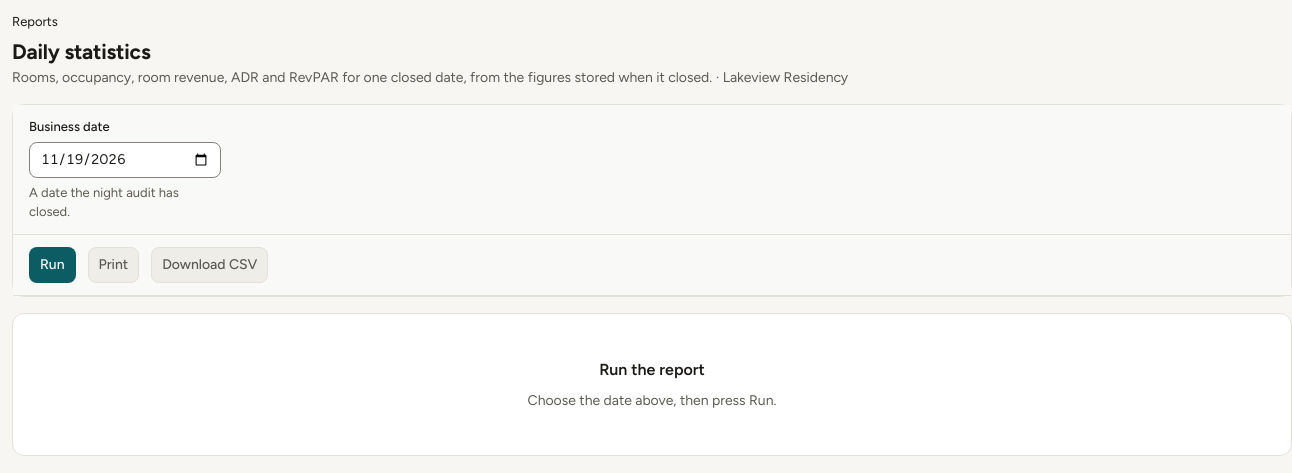
ReportRunnerScreen: Part C night audit and housekeeping › a date with no completed audit says so, as its own state
Type "2026-11-18" into the date field labelled "Business date" at (125, 160), box [29,142,221,178]
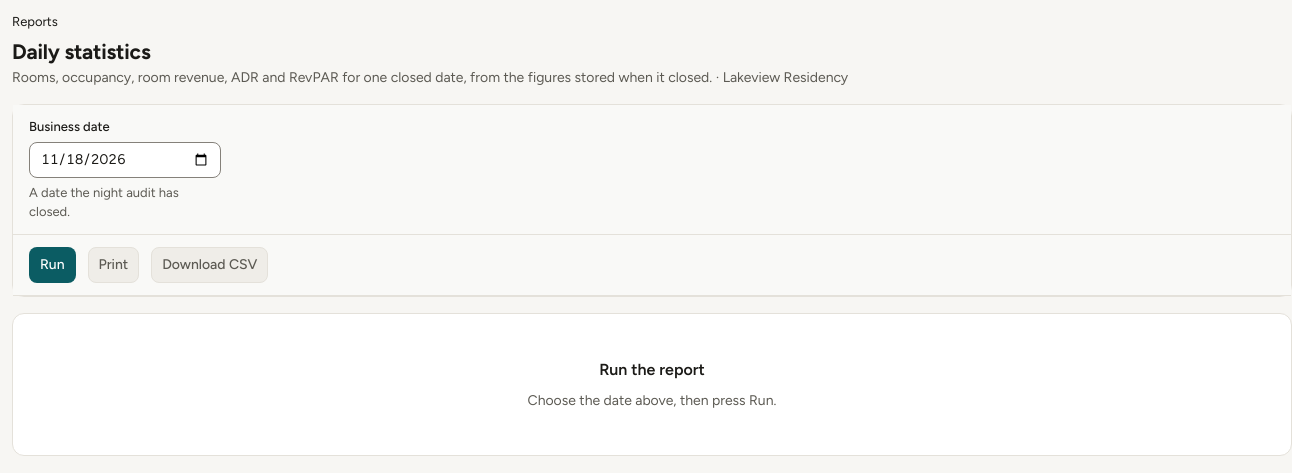
Click the button with test id "report-run" at (52, 265), box [29,247,76,283]
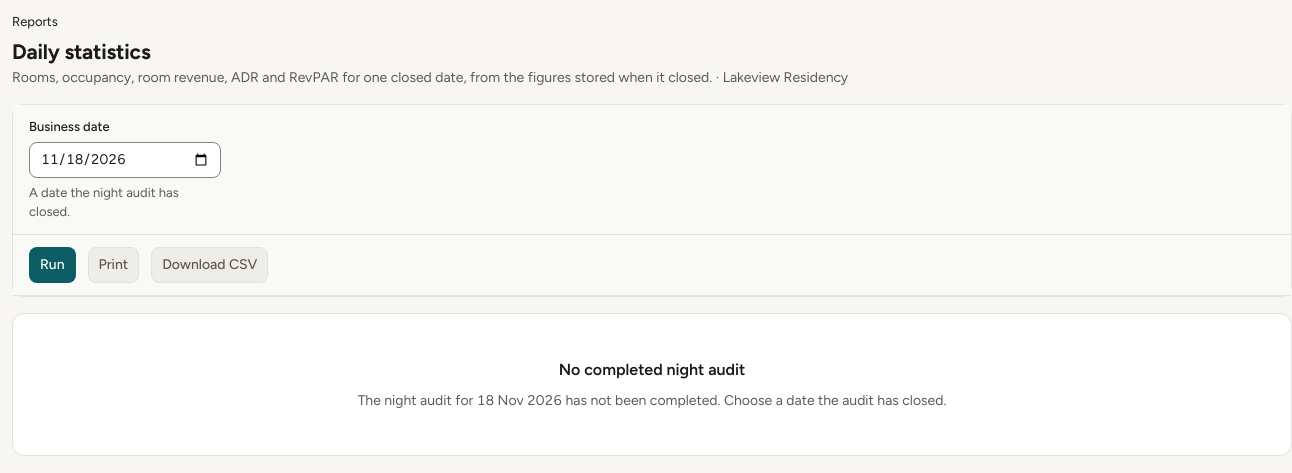
Check: the button with test id "report-print" is disabled, box [88,247,139,283]
Check: the element with test id "report-no-audit" shows "No completed night audit", box [559,360,745,379]
Check: the element with test id "report-no-audit" shows "18 Nov 2026 has not been completed", box [358,392,946,409]
